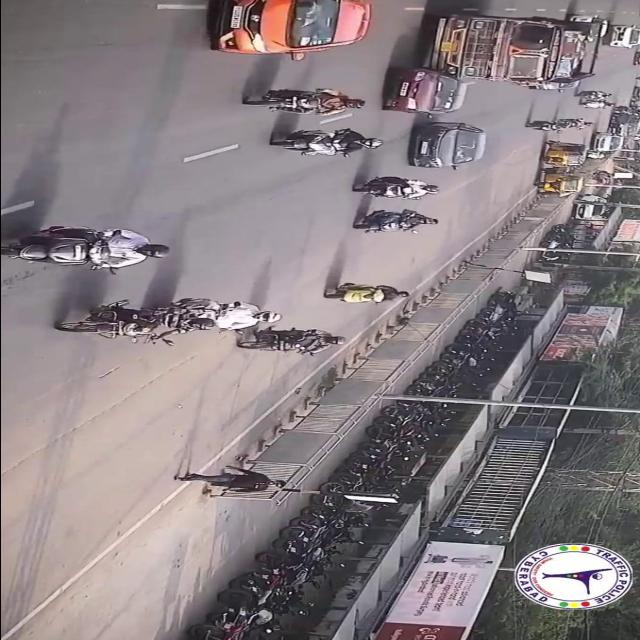accident: (373, 11, 612, 117)
non_accident: (584, 113, 640, 155), (519, 116, 597, 136)
